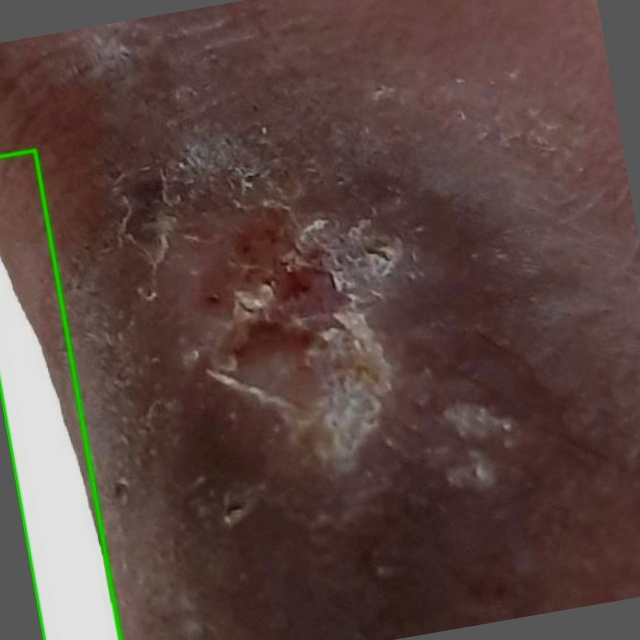Eczema: (0, 149, 120, 639)
